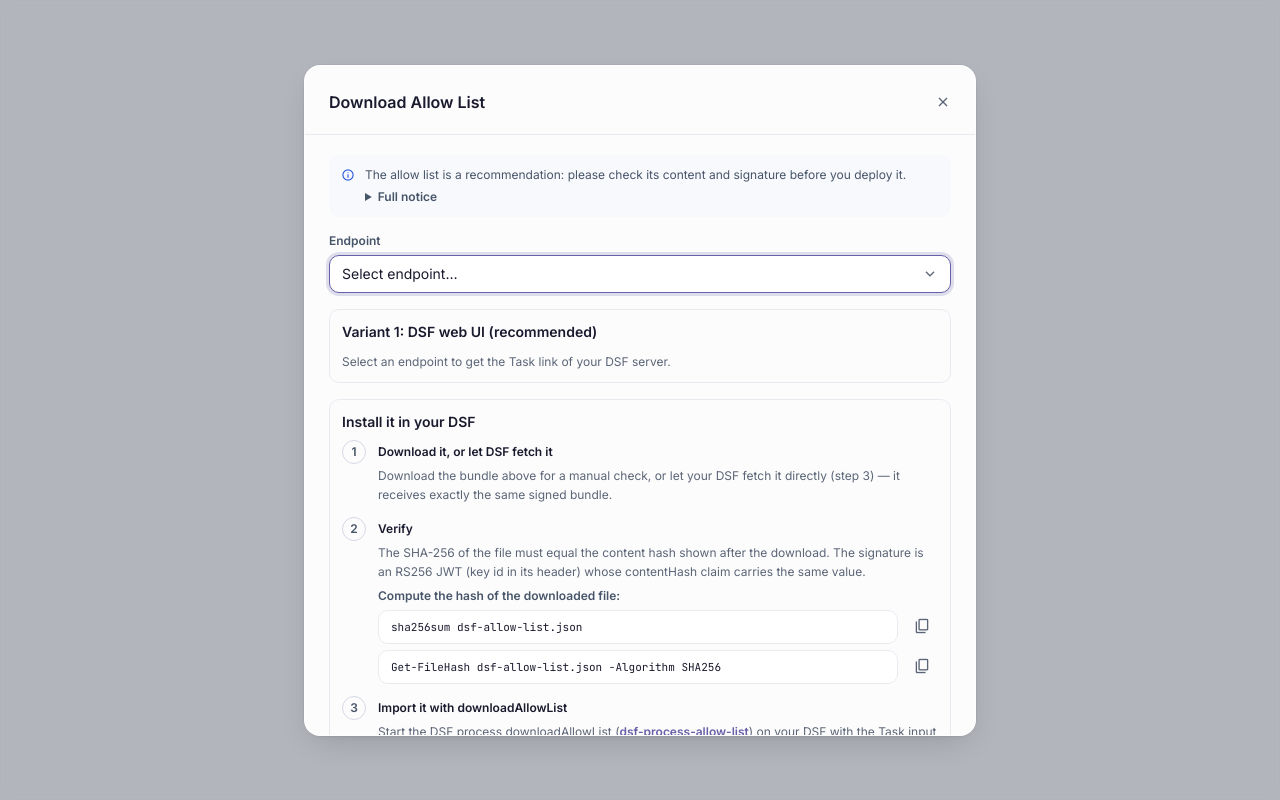
Test case: DownloadModal – versioned download and verification › asks for a manual check when the browser cannot hash the file
Select "Klinik FHIR" in the dropdown labelled "Endpoint" at [640, 274], box [329,254,951,292]
(page scrolled)
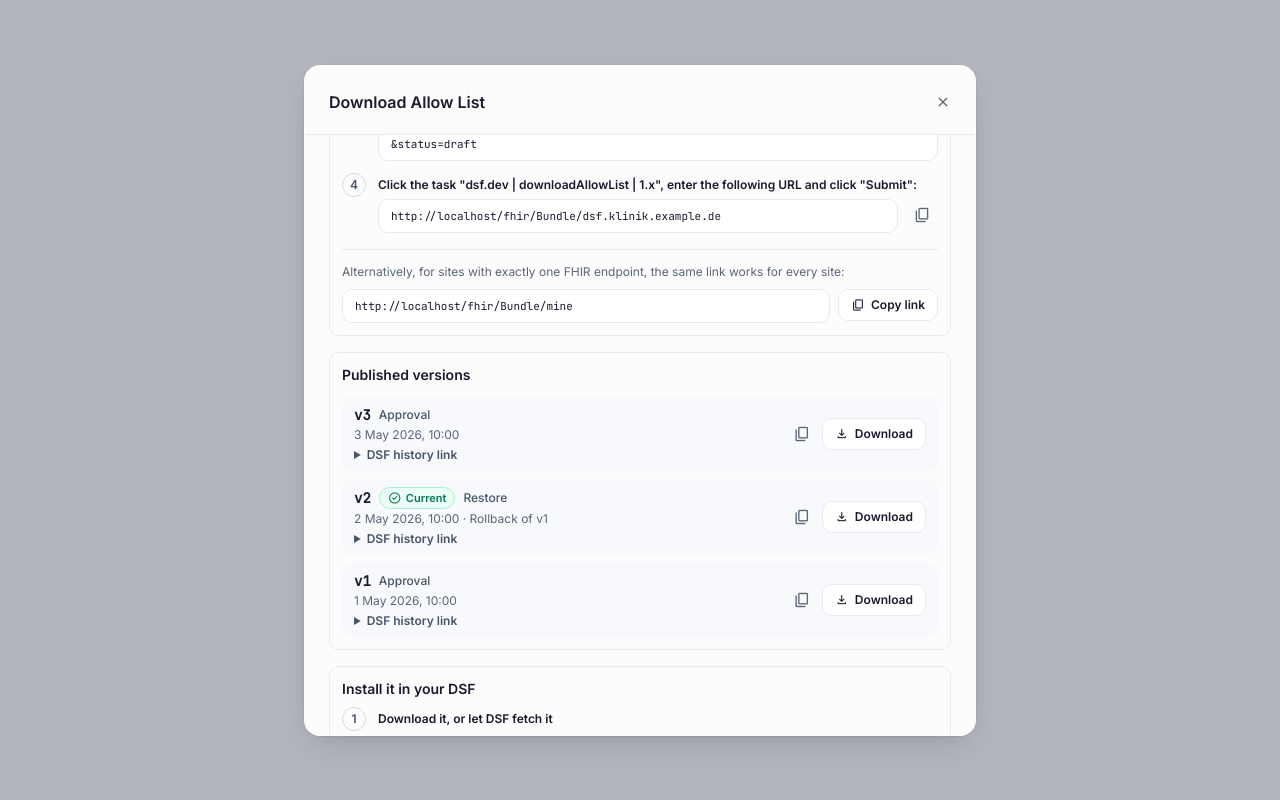
Click the button with test id "download-version-3" at [874, 434], box [822,418,926,450]
(page scrolled)
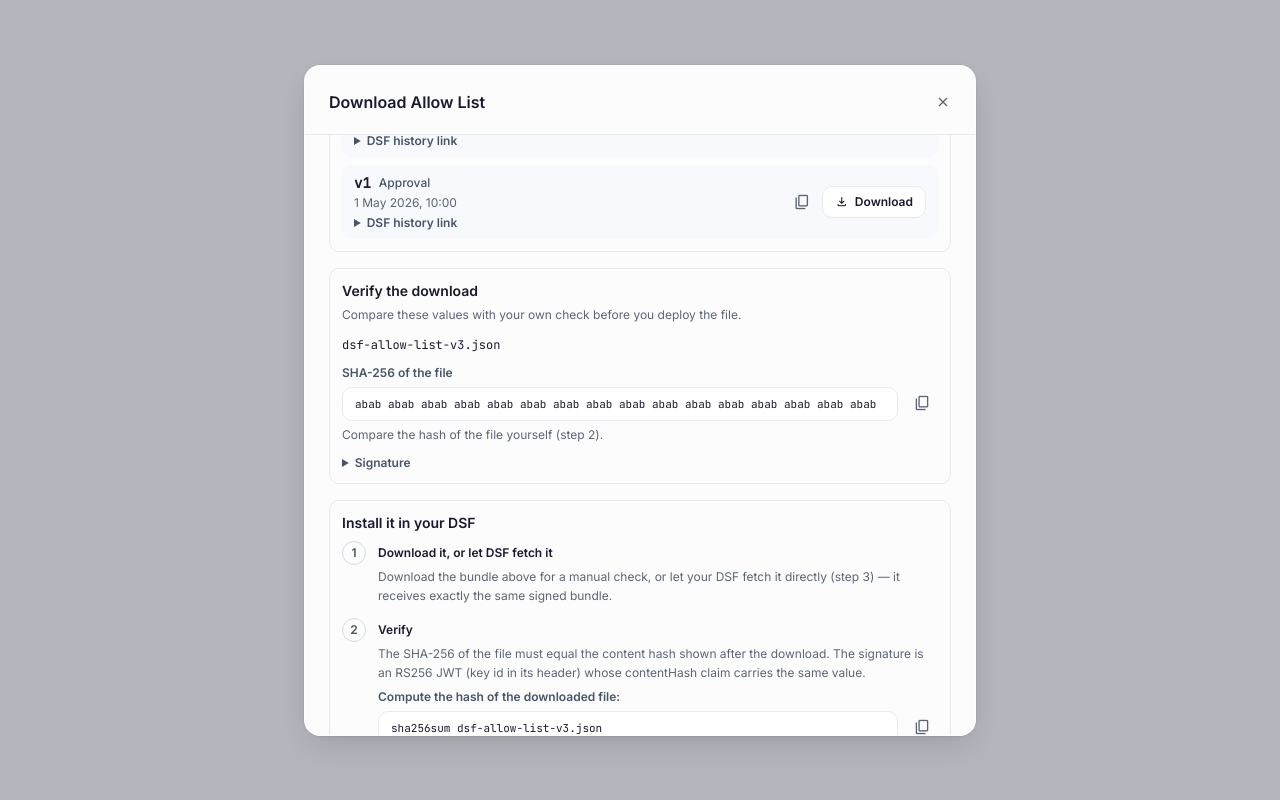
Check: the text "Compare the hash of the file yourself (step 2)." is shown, box [342,426,603,442]
